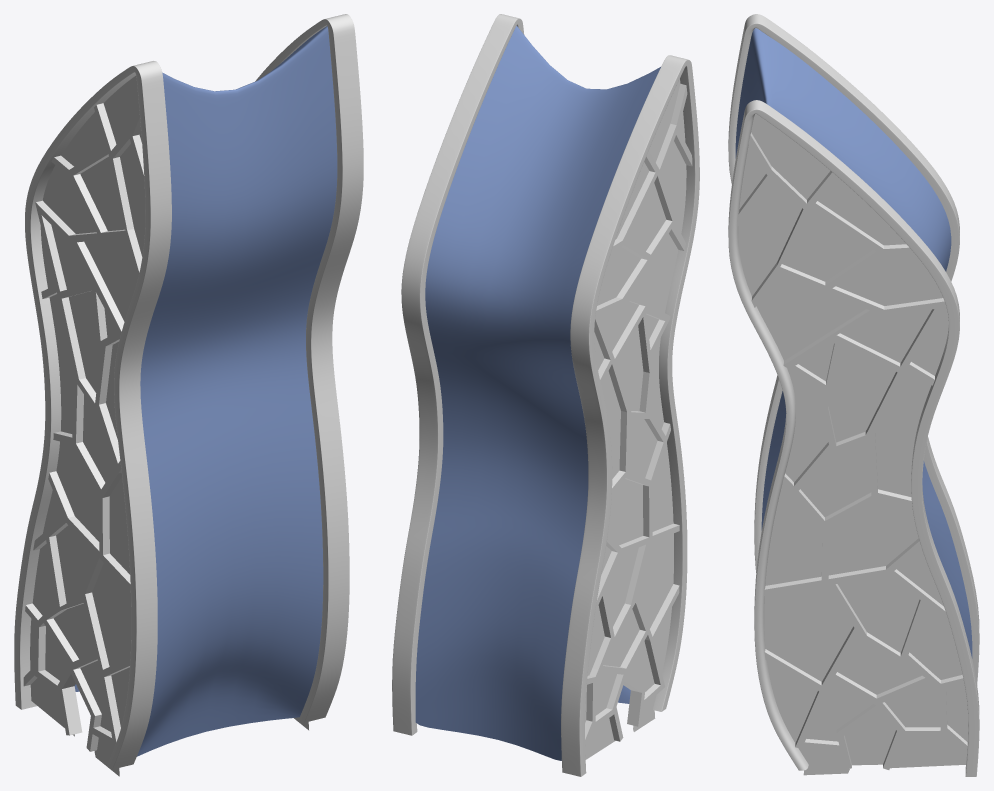
Rendered from Skyscraper_3.fbx.
3 renders of one model, left to right at view 1: azimuth 30°, elevation 25°; view 2: azimuth 150°, elevation 25°; view 3: azimuth 270°, elevation 25°, orthographic. The views are drawn at different scales.
Visible parts, largest first — view 1: Vert.002, Vert, Plane.283, Vert.001, Plane.291, Plane.300, Plane.294, Plane.301, Plane.292, Plane.298, Plane.302, Plane.297 (+12 smaller); view 2: Vert.002, Vert, Vert.001, Plane.283, Plane.291, Plane.300, Plane.294, Plane.298, Plane.303, Plane.295, Plane.302, Plane.301 (+12 smaller); view 3: Plane.285, Vert.001, Vert.002, Vert, Plane.317, Plane.320, Plane.326, Plane.323, Plane.329, Plane.321, Plane.324, Plane.318 (+20 smaller).
Boxes of the visible parts, <box> form: Vert.002: <box>74,26,337,756</box>; Vert: <box>14,61,171,769</box>; Plane.283: <box>23,103,144,751</box>; Vert.001: <box>255,14,363,722</box>; Plane.291: <box>92,563,131,666</box>; Plane.300: <box>84,238,137,321</box>; Plane.294: <box>56,441,99,541</box>; Plane.301: <box>42,165,96,233</box>; Plane.292: <box>56,525,95,602</box>; Plane.298: <box>68,291,99,392</box>; Plane.302: <box>80,156,125,230</box>; Plane.297: <box>49,294,73,433</box>; Vert.002: <box>415,26,660,760</box>; Vert: <box>561,55,699,776</box>; Vert.001: <box>392,14,524,735</box>; Plane.283: <box>585,83,692,746</box>; Plane.291: <box>637,533,673,628</box>; Plane.300: <box>629,234,678,312</box>; Plane.294: <box>608,479,643,545</box>; Plane.298: <box>616,326,643,411</box>; Plane.303: <box>661,141,686,233</box>; Plane.295: <box>652,442,673,531</box>; Plane.302: <box>626,183,666,251</box>; Plane.301: <box>597,247,641,305</box>; Plane.285: <box>737,132,967,769</box>; Vert.001: <box>728,100,979,776</box>; Vert.002: <box>735,28,972,658</box>; Vert: <box>728,14,979,685</box>; Plane.317: <box>764,585,853,681</box>; Plane.320: <box>828,499,918,575</box>; Plane.326: <box>756,274,865,360</box>; Plane.323: <box>875,370,931,497</box>; Plane.329: <box>738,180,801,296</box>; Plane.321: <box>765,483,822,585</box>; Plane.324: <box>828,344,895,442</box>; Plane.318: <box>837,575,919,652</box>.
Bounding box in the file's own units: 6112 × 20023 × 6782.
